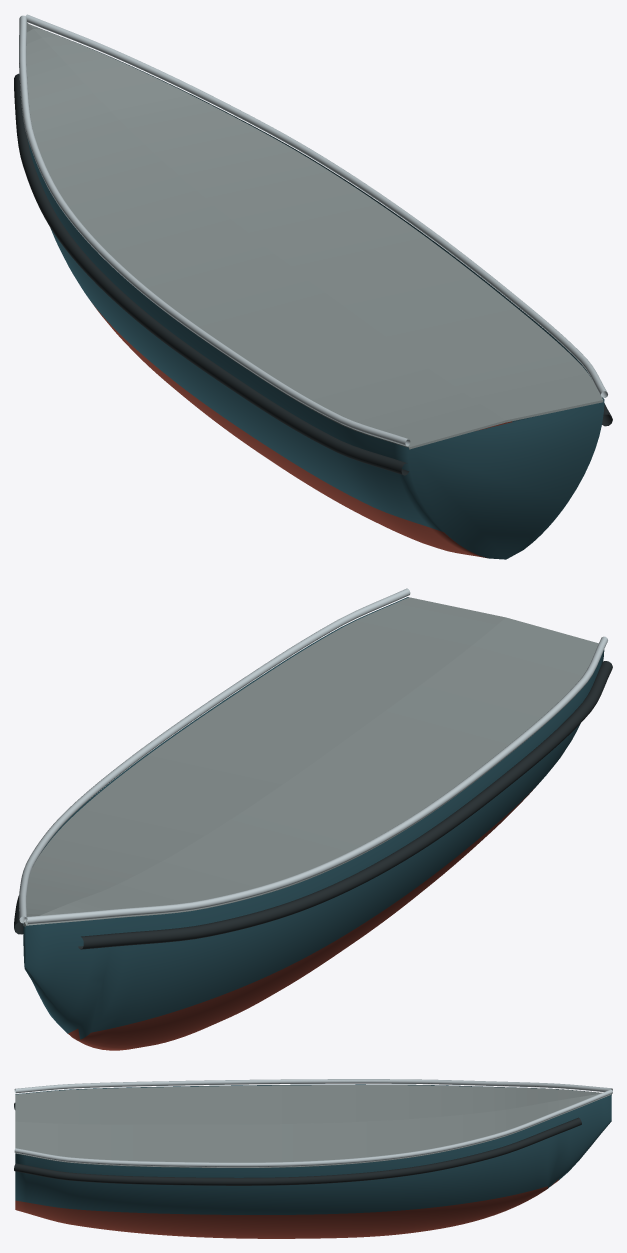
The model's file is coastal_hull_deck.glb.
The picture shows the model from 3 angles, top to bottom: view 1: azimuth 30°, elevation 25°; view 2: azimuth 150°, elevation 25°; view 3: azimuth 270°, elevation 25°; orthographic projection. The views are drawn at different scales.
Parts seen in each view (by area): view 1: Cambered non-slip main deck, 14m rounded steel hull, Heavy rubber rubbing strake, Continuous gunwale.001, Continuous gunwale; view 2: Cambered non-slip main deck, 14m rounded steel hull, Heavy rubber rubbing strake, Continuous gunwale, Continuous gunwale.001; view 3: 14m rounded steel hull, Cambered non-slip main deck, Heavy rubber rubbing strake.001, Continuous gunwale.001, Continuous gunwale.
Boxes of the visible parts, <box> form: Cambered non-slip main deck: <box>26,22,603,449</box>; 14m rounded steel hull: <box>27,31,604,559</box>; Heavy rubber rubbing strake: <box>14,73,409,475</box>; Continuous gunwale.001: <box>25,14,607,397</box>; Continuous gunwale: <box>19,15,410,446</box>; Cambered non-slip main deck: <box>23,597,598,926</box>; 14m rounded steel hull: <box>23,597,604,1050</box>; Heavy rubber rubbing strake: <box>78,661,612,949</box>; Continuous gunwale: <box>24,636,607,924</box>; Continuous gunwale.001: <box>19,588,410,923</box>; 14m rounded steel hull: <box>15,1084,611,1238</box>; Cambered non-slip main deck: <box>15,1085,611,1167</box>; Heavy rubber rubbing strake.001: <box>14,1117,581,1185</box>; Continuous gunwale.001: <box>14,1089,612,1167</box>; Continuous gunwale: <box>14,1079,612,1093</box>.
Size of the model in its own units: 4.86 by 3.8 by 14.06.
